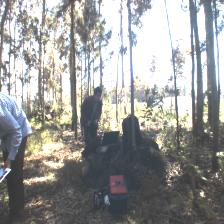trunktrack_idkeyframe: (207, 46, 220, 150), (138, 52, 145, 152), (76, 65, 86, 121), (206, 62, 212, 134), (184, 99, 188, 146)
